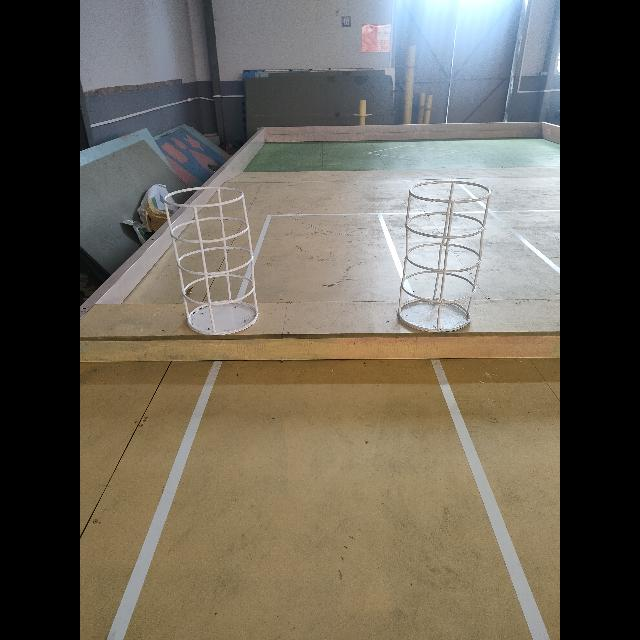S: (395, 178, 493, 335), (162, 184, 262, 336)
